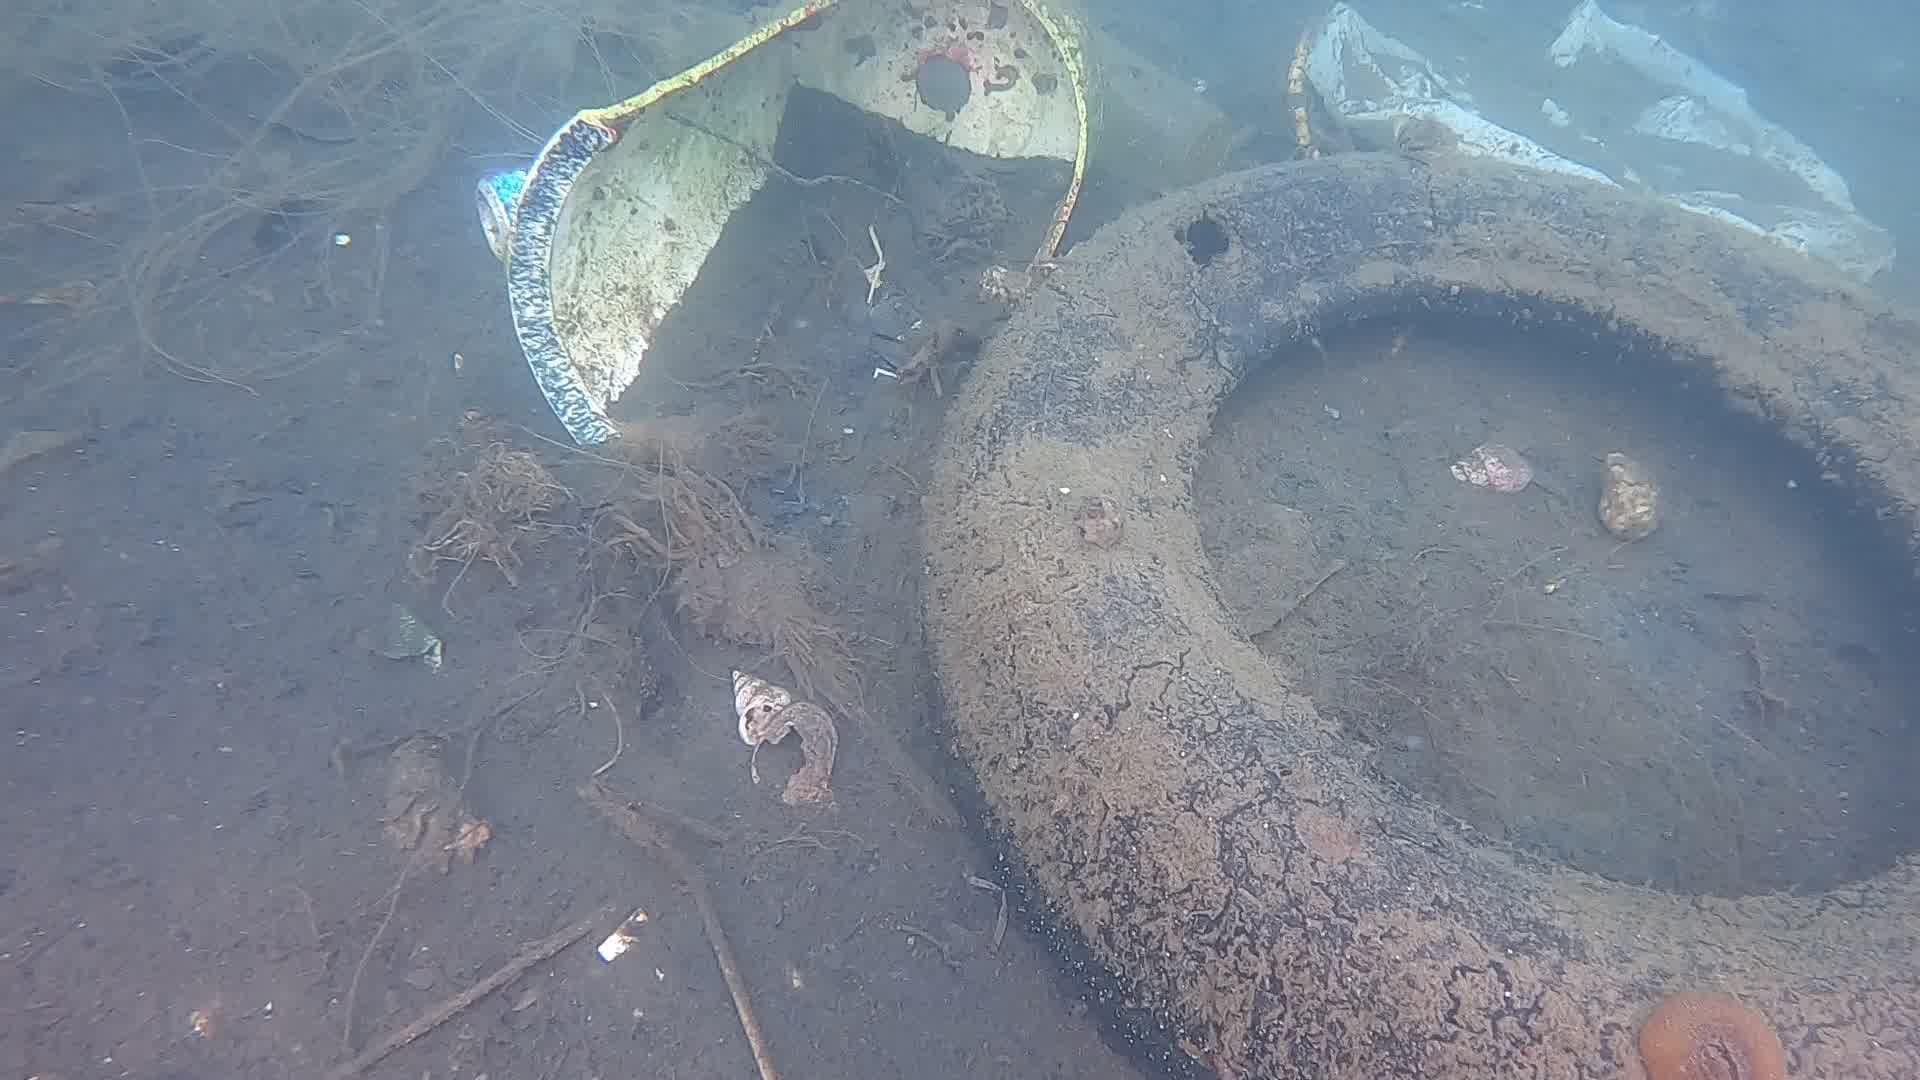tire: (915, 145, 1920, 1080)
